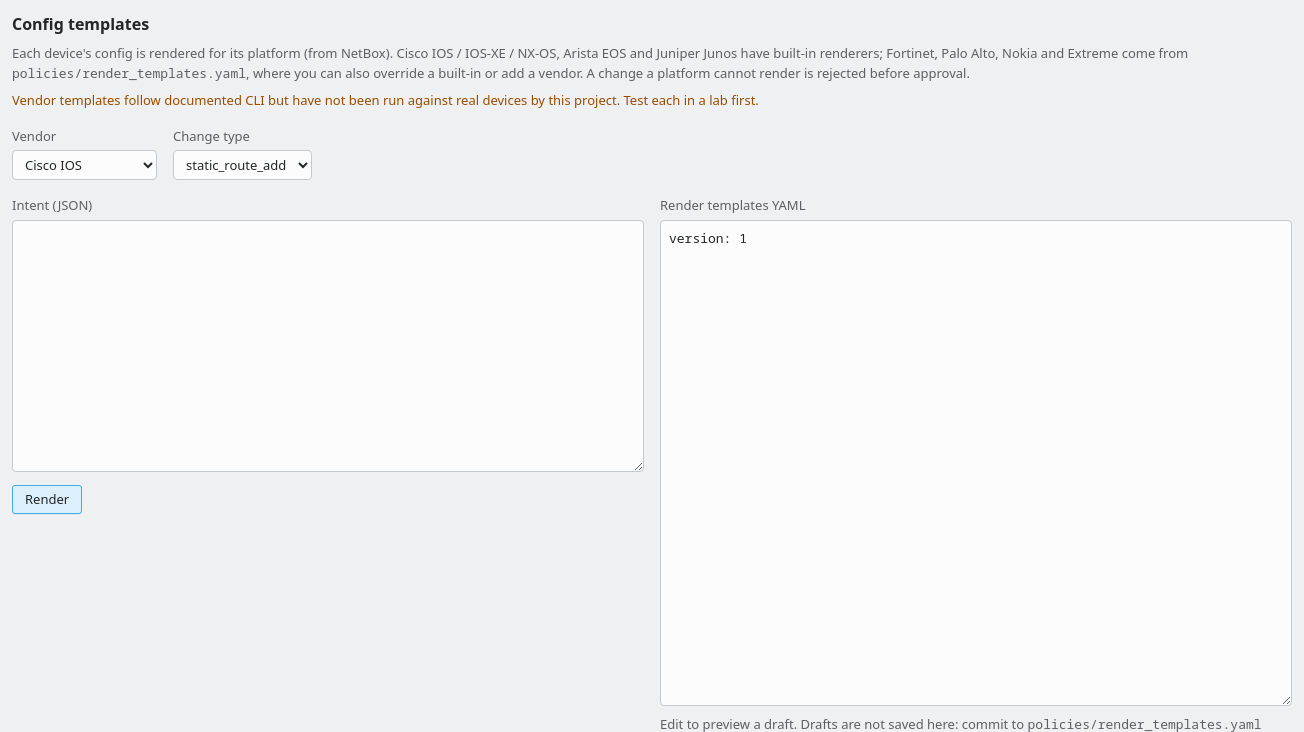
Test: RenderTemplates › renders config for the chosen vendor
The width and height of the screenshot is (1304, 732).
Select "static_route_add" in the dropdown labelled "Change type": (242, 165) 173,150 -> 312,180
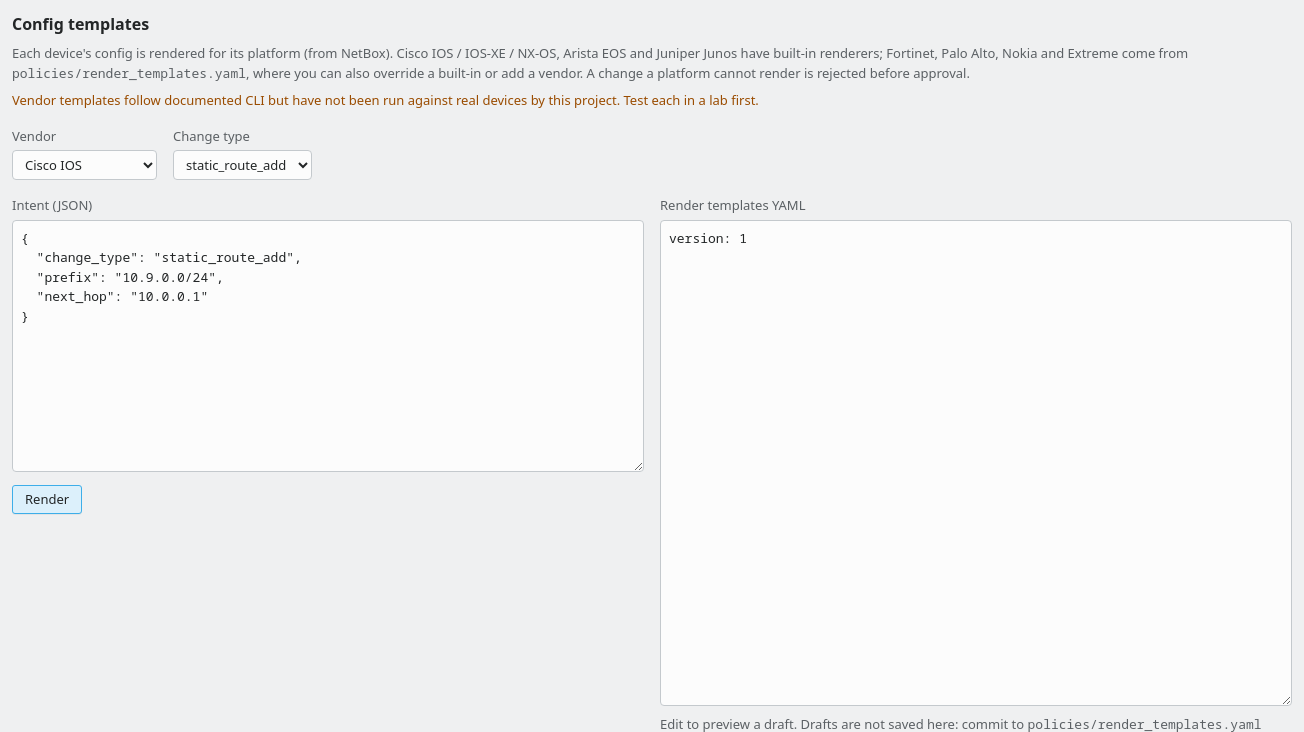
Select "Fortinet FortiOS" in the dropdown labelled "Vendor": (84, 165) 12,150 -> 157,180
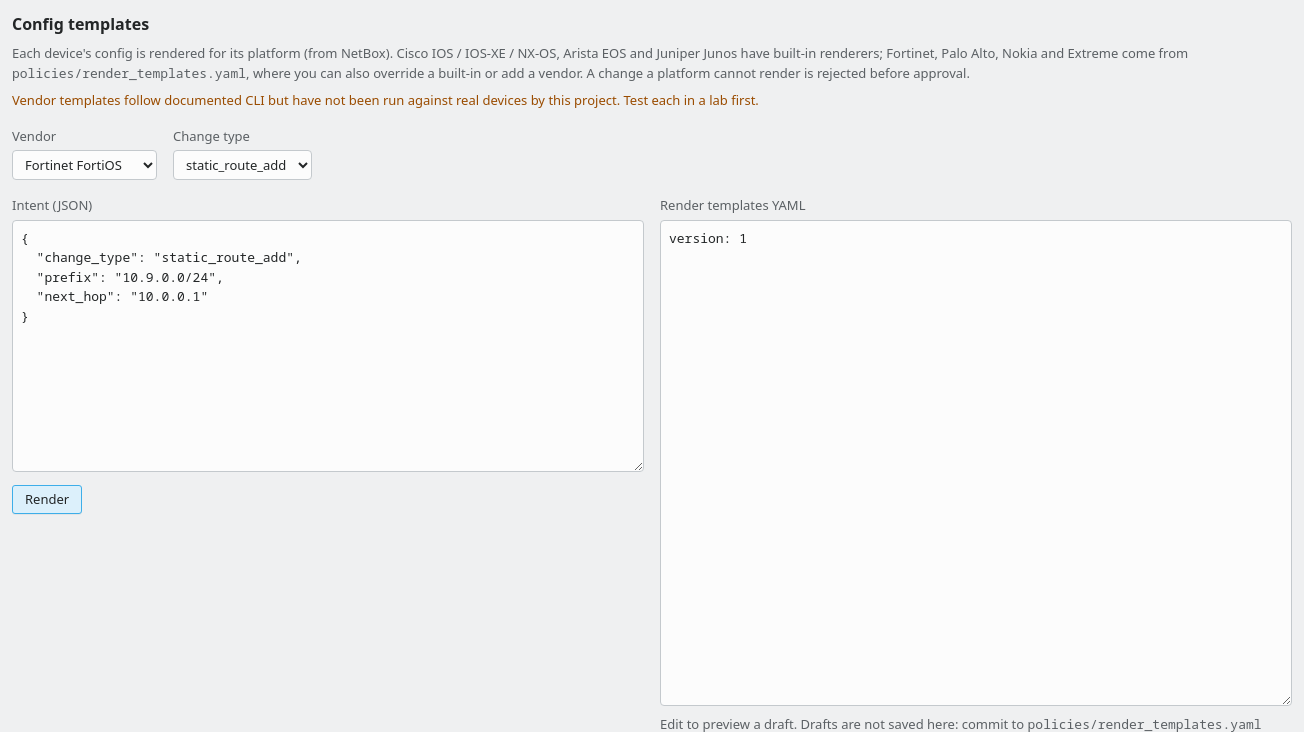
Click the button "Render": click(47, 499) 12,484 -> 82,514
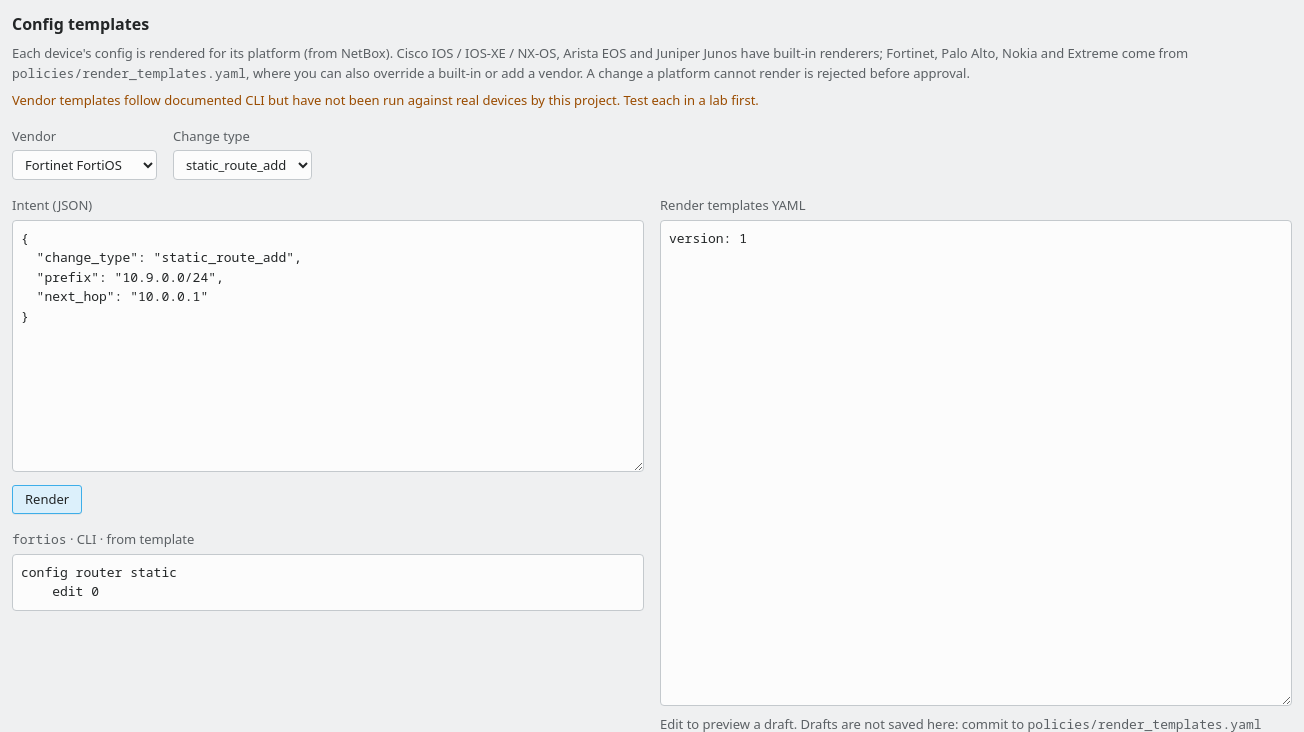
Result: the text named "Rendered config" shows "config router static" at 21,562 -> 177,600
Result: the text "fortios · CLI · from template" is shown at 12,530 -> 194,548
